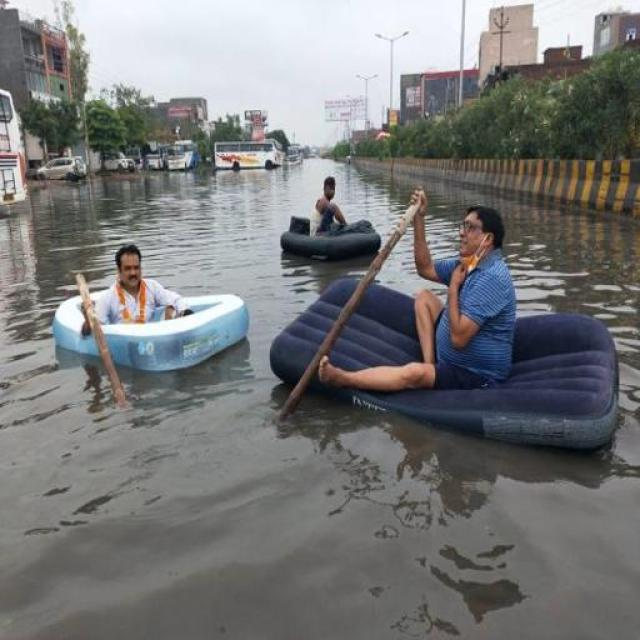puddle: (16, 434, 629, 640), (3, 216, 63, 537), (54, 170, 280, 248)
